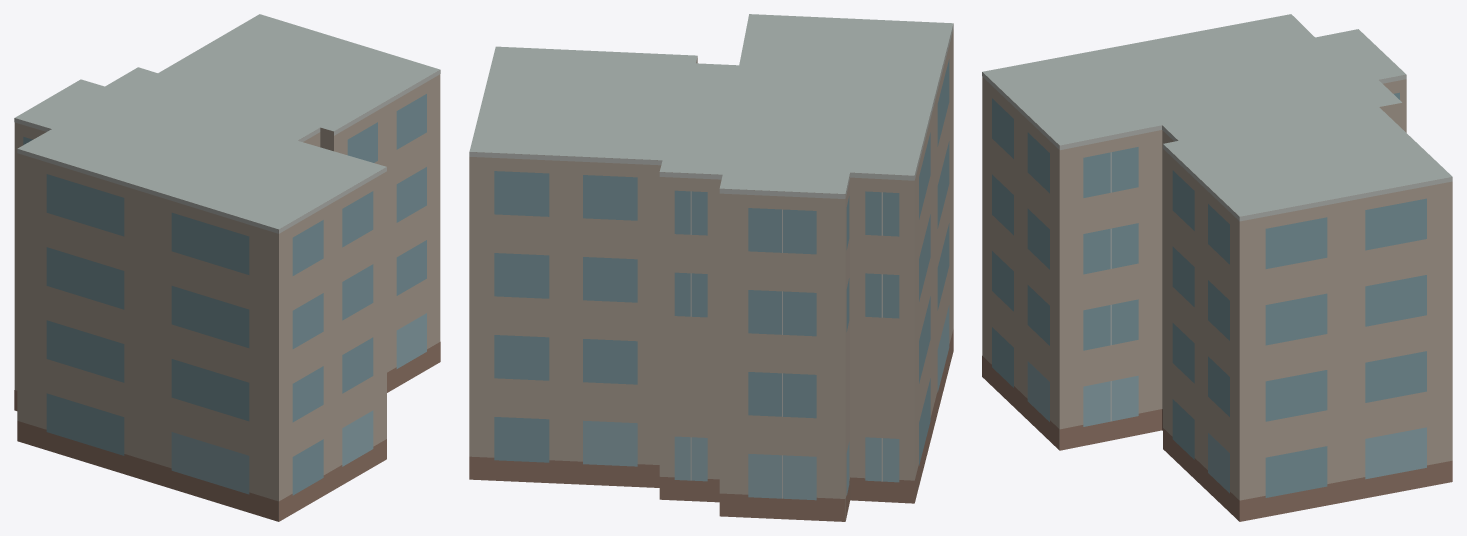
File: survey-upis-32833630.glb
3 views of the same model, side by side, from view 1: azimuth 30°, elevation 25°; view 2: azimuth 150°, elevation 25°; view 3: azimuth 270°, elevation 25° (orthographic). The views are drawn at different scales.
Visible parts, largest first — view 1: survey-upis-32833630.tmp; view 2: survey-upis-32833630.tmp; view 3: survey-upis-32833630.tmp.
Boxes of the visible parts, left/top/right/bottom form: survey-upis-32833630.tmp: left=14, top=14, right=440, bottom=521; survey-upis-32833630.tmp: left=469, top=14, right=953, bottom=521; survey-upis-32833630.tmp: left=982, top=14, right=1452, bottom=521.
Size of the model in its own units: 22.68 by 15.9 by 22.23.
